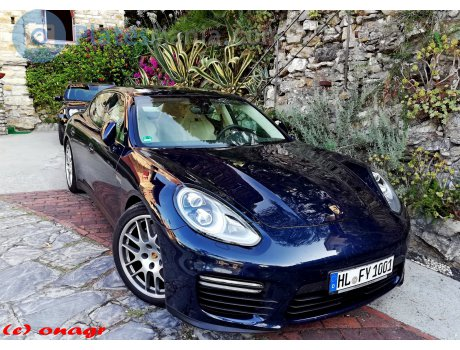License Plates: (340, 258, 391, 285)
